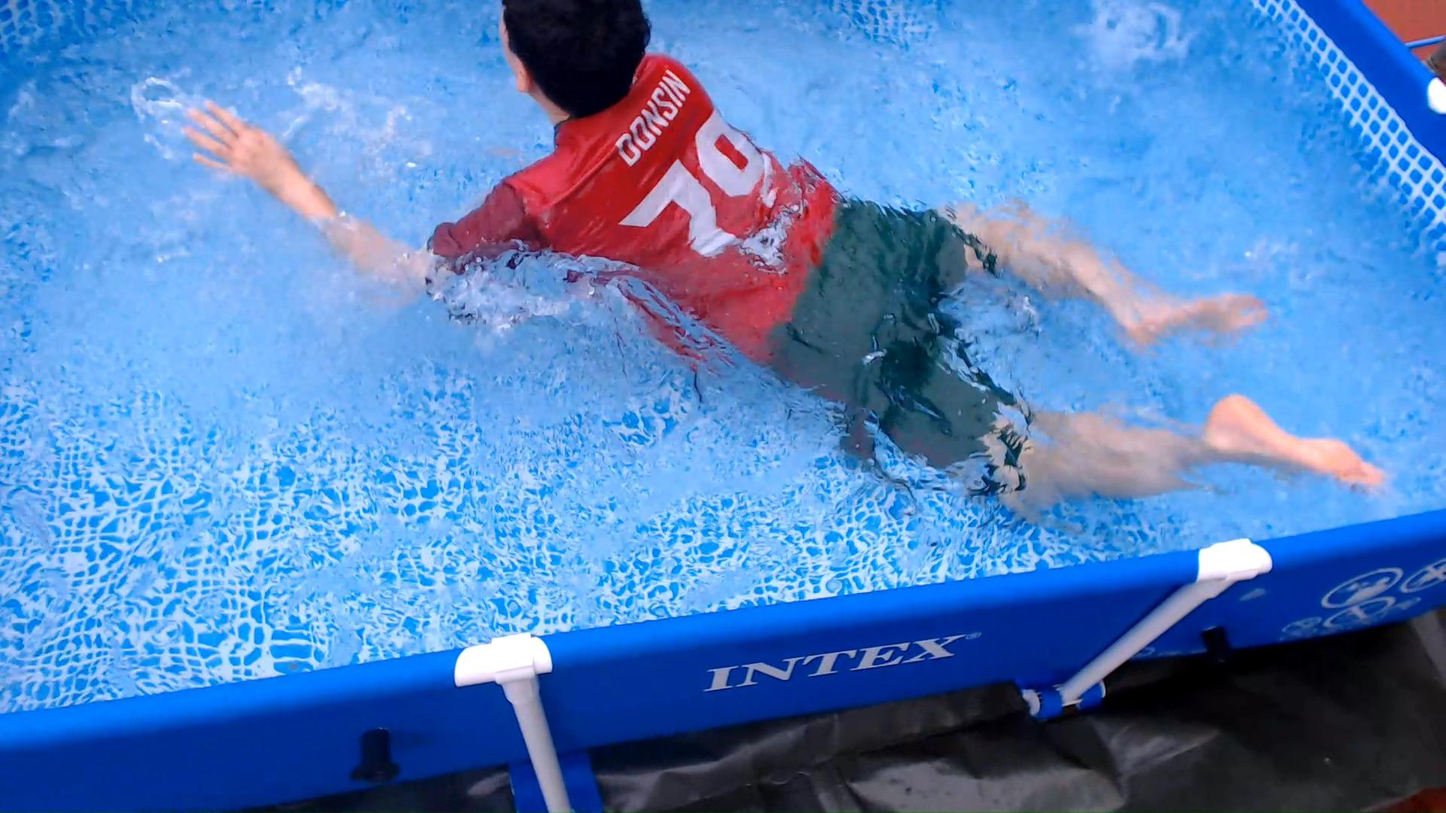Drowning: (113, 0, 1379, 487)
